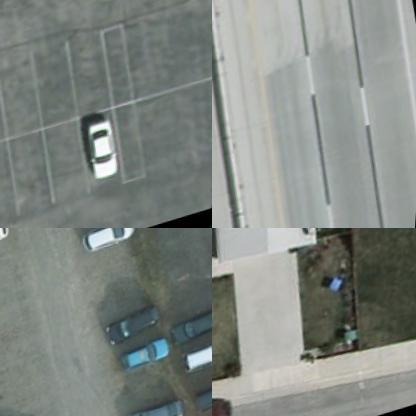car: (87, 121, 130, 191), (102, 310, 166, 356), (113, 343, 173, 384), (80, 228, 137, 263), (170, 311, 211, 357), (181, 347, 211, 386), (212, 390, 244, 415), (188, 383, 211, 415), (124, 404, 185, 415)
